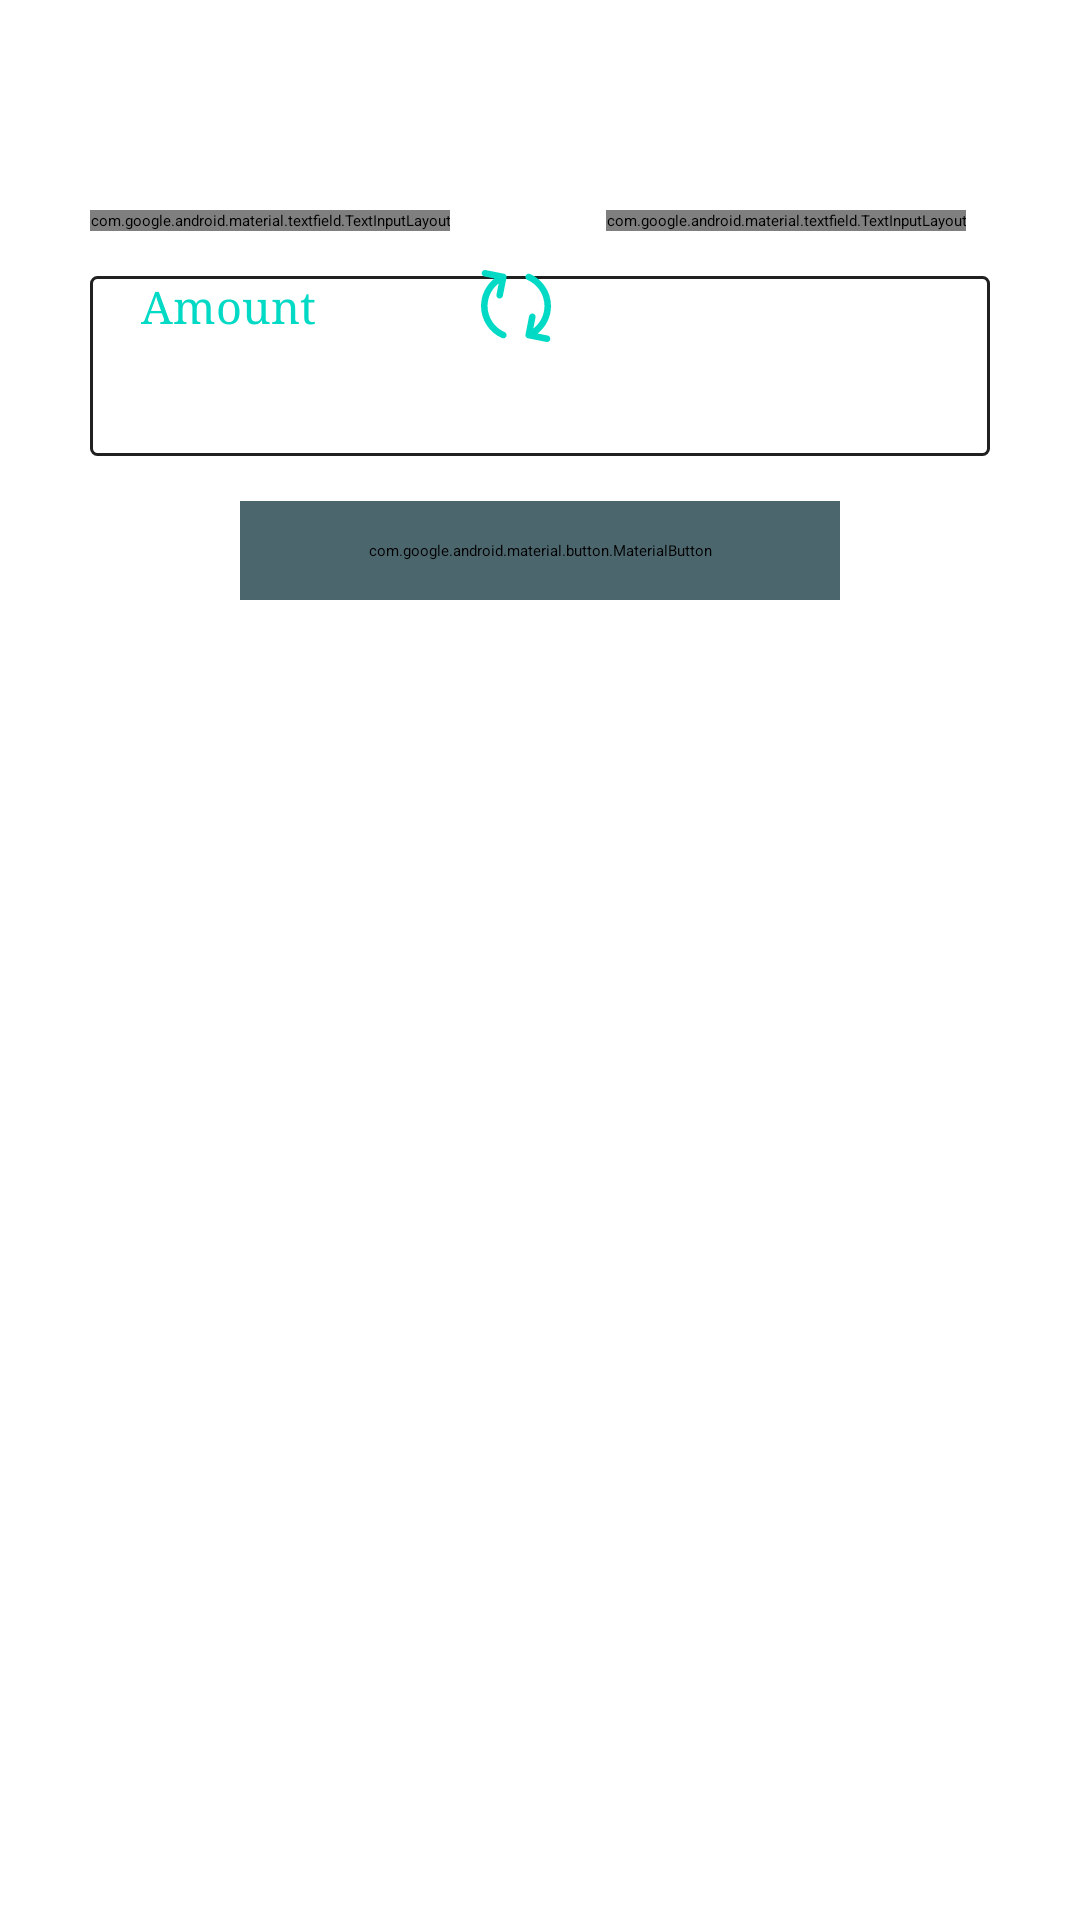

Point at icon controls on the screen. Image size 1080w x 1920h, points as point (x, y).
exchange: point (516, 306)
